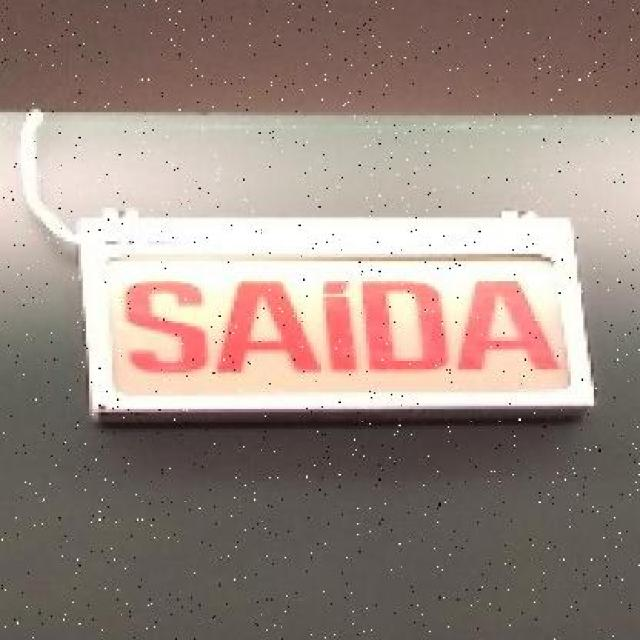emergency_exit: (78, 208, 596, 423)
